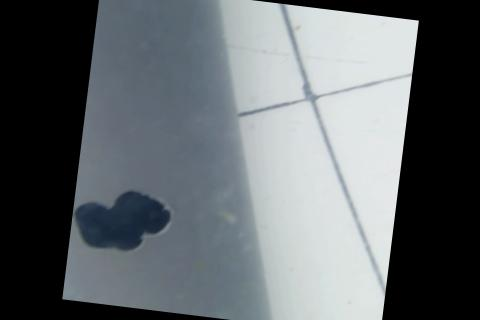kebocoran: (67, 181, 178, 259)
